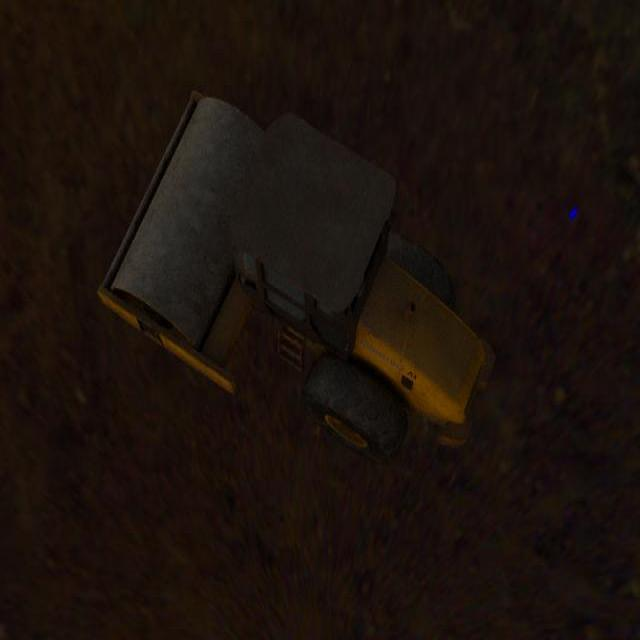Roller: (96, 90, 496, 466)
